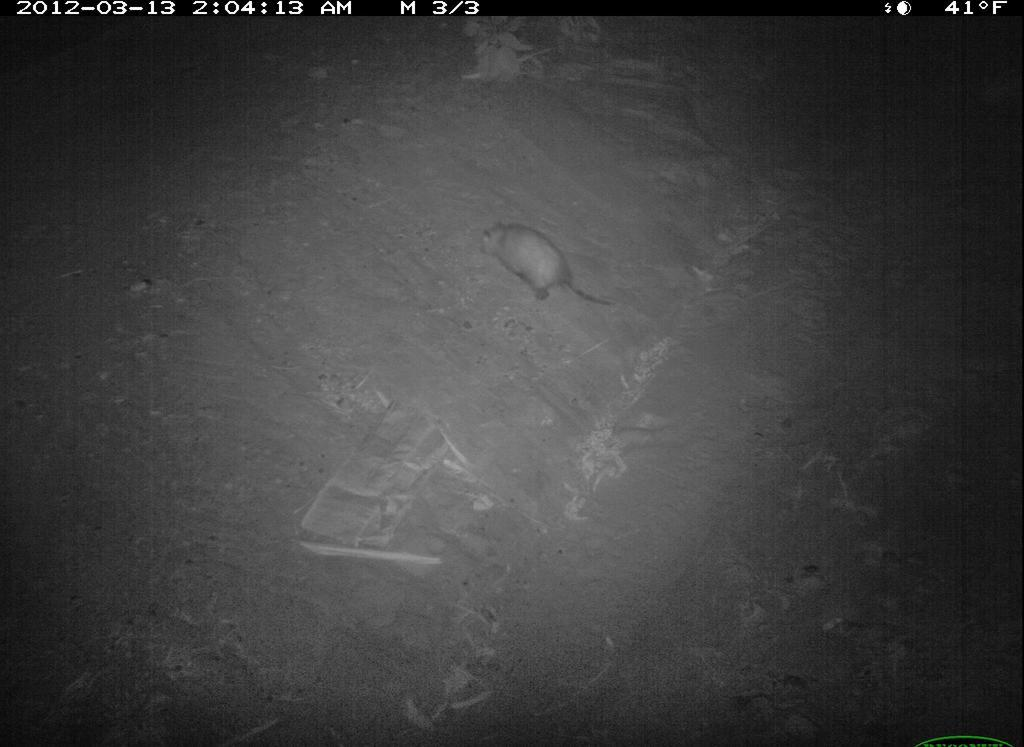opossum: (473, 209, 619, 332)
